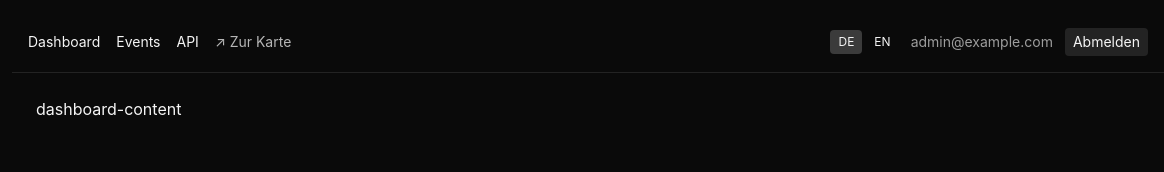
Test: AdminLayout › still navigates to /admin/login when signOut rejects, and shows an error toast
Click the button "Abmelden".
click(1106, 42)  # box [1065,28,1148,56]
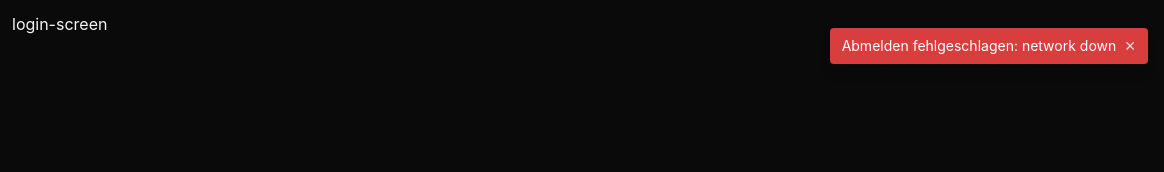
Now the text "login-screen" is shown, box [12,14,107,34]
Now the message shows "network down", box [842,37,1116,54]
